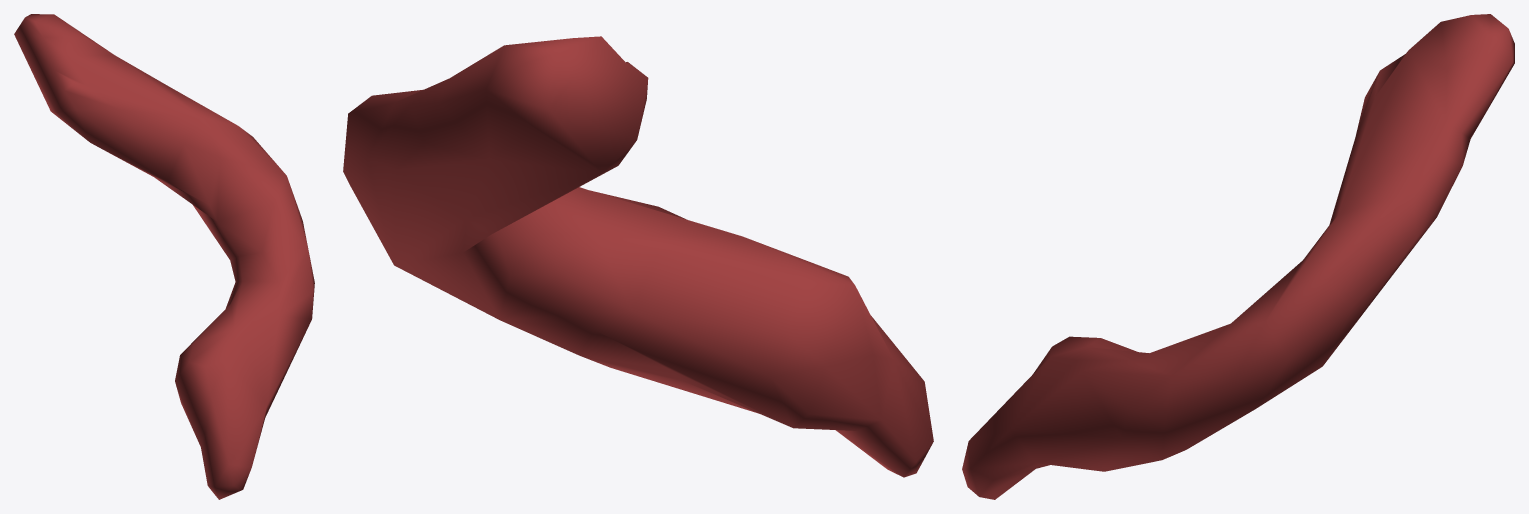
Rendered from external-anal-sphincter-l.glb.
3 renders of one model, left to right at view 1: azimuth 30°, elevation 25°; view 2: azimuth 150°, elevation 25°; view 3: azimuth 270°, elevation 25°, orthographic. The views are drawn at different scales.
Parts seen in each view (by area): view 1: External anal sphincter.l; view 2: External anal sphincter.l; view 3: External anal sphincter.l.
Part boxes in pixels (left/top/right/bottom): External anal sphincter.l: left=14, top=14, right=314, bottom=499; External anal sphincter.l: left=343, top=36, right=933, bottom=477; External anal sphincter.l: left=962, top=14, right=1514, bottom=499.
Bounding box in the file's own units: 0.012 × 0.0216 × 0.0228.
